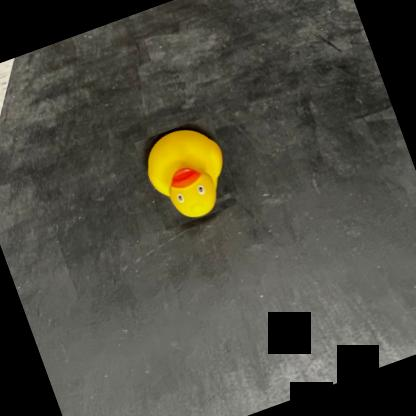duck: (134, 115, 241, 230)
